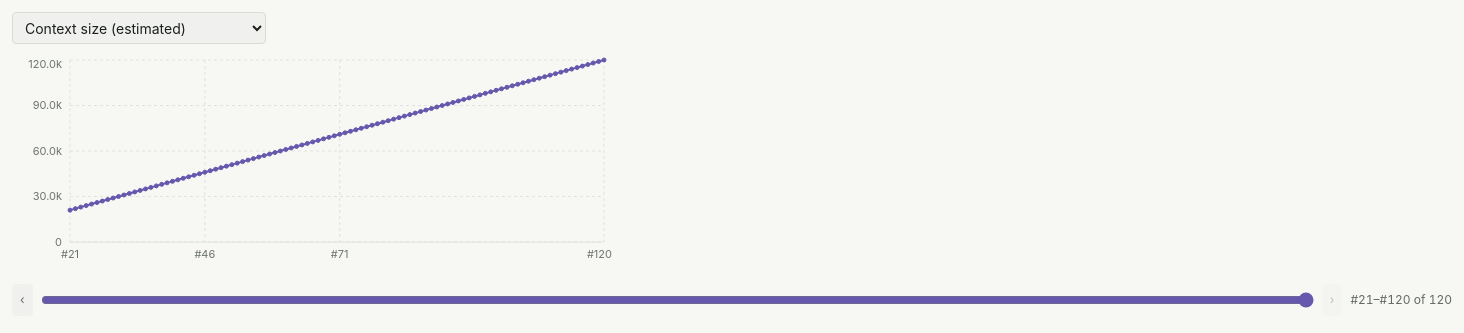
Test: SessionTrendChart › panning a long session › stops at the oldest request
Click the button named "Show earlier requests": (22, 300) [12, 284, 33, 316]
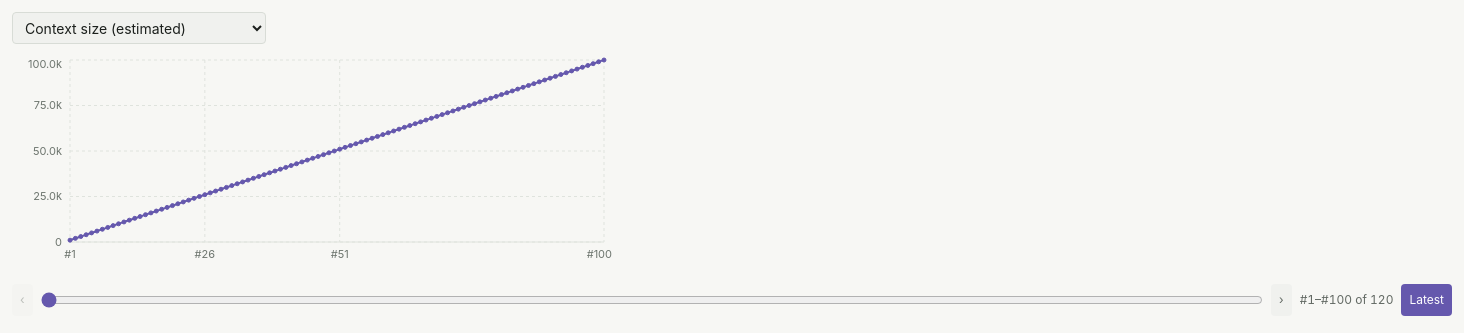
Result: the text "#1–#100 of 120" is shown at [1300, 292, 1393, 308]
